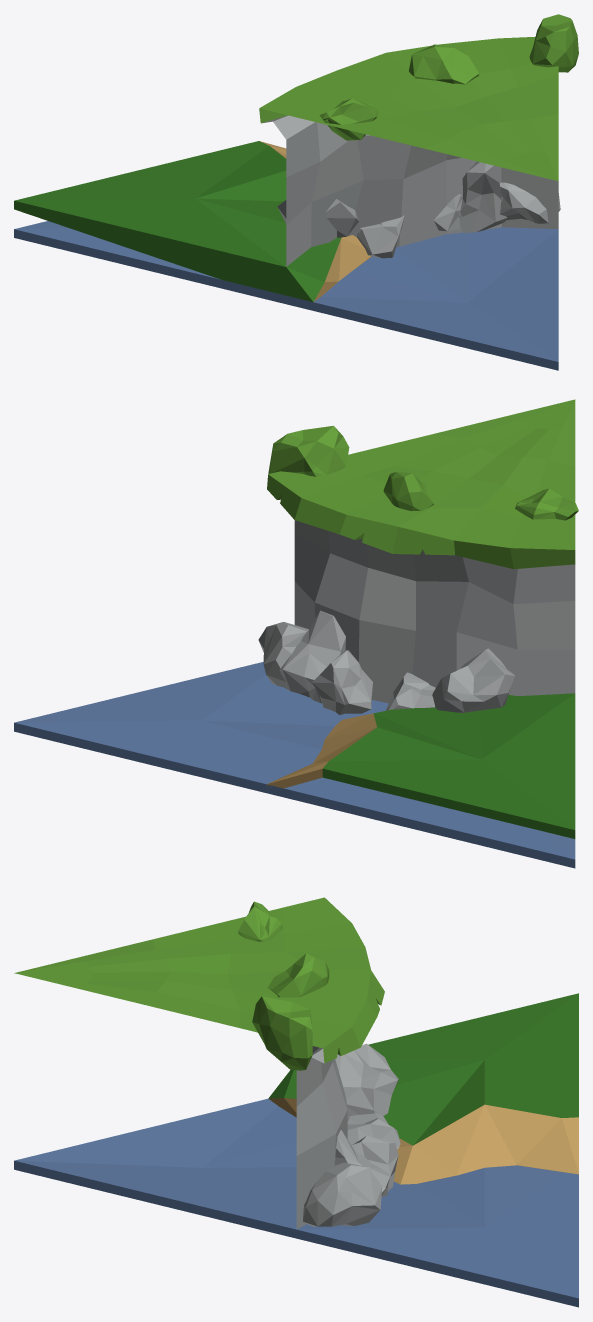
3 renders of one model, top to bottom at view 1: azimuth 30°, elevation 25°; view 2: azimuth 150°, elevation 25°; view 3: azimuth 270°, elevation 25°, orthographic. The views are drawn at different scales.
Parts seen in each view (by area): view 1: hill8.002, water4.003, ground.009, rock4.003, bush2.005, bush1.005, rock0.015, bush3.005, rock3.003, rock1.003, rock5.003; view 2: hill8.002, water4.003, ground.009, rock1.003, bush2.005, rock4.003, rock5.003, rock0.015, bush1.005, bush3.005, rock3.003; view 3: water4.003, hill8.002, ground.009, rock0.015, bush2.005, rock1.003, bush1.005, rock5.003, rock3.003, bush3.005, rock4.003.
Part boxes in pixels (x1=…): hill8.002: x1=259, y1=36, x2=558, y2=266; water4.003: x1=14, y1=221, x2=558, y2=370; ground.009: x1=14, y1=141, x2=371, y2=309; rock4.003: x1=458, y1=161, x2=507, y2=232; bush2.005: x1=529, y1=14, x2=578, y2=72; bush1.005: x1=409, y1=44, x2=478, y2=84; rock0.015: x1=499, y1=182, x2=560, y2=223; bush3.005: x1=319, y1=98, x2=378, y2=140; rock3.003: x1=357, y1=215, x2=404, y2=258; rock1.003: x1=277, y1=199, x2=360, y2=237; rock5.003: x1=434, y1=194, x2=462, y2=231; hill8.002: x1=267, y1=399, x2=575, y2=703; water4.003: x1=14, y1=662, x2=575, y2=868; ground.009: x1=266, y1=693, x2=575, y2=838; rock1.003: x1=432, y1=648, x2=514, y2=712; bush2.005: x1=268, y1=425, x2=349, y2=476; rock4.003: x1=279, y1=610, x2=345, y2=703; rock5.003: x1=312, y1=650, x2=372, y2=714; rock0.015: x1=258, y1=622, x2=308, y2=687; bush1.005: x1=383, y1=472, x2=433, y2=511; bush3.005: x1=515, y1=488, x2=578, y2=520; rock3.003: x1=386, y1=672, x2=435, y2=710; water4.003: x1=14, y1=1098, x2=578, y2=1307; hill8.002: x1=14, y1=897, x2=384, y2=1228; ground.009: x1=268, y1=993, x2=578, y2=1184; rock0.015: x1=303, y1=1162, x2=382, y2=1226; bush2.005: x1=252, y1=996, x2=312, y2=1070; rock1.003: x1=335, y1=1043, x2=398, y2=1116; bush1.005: x1=268, y1=953, x2=329, y2=997; rock5.003: x1=352, y1=1135, x2=398, y2=1196; rock3.003: x1=347, y1=1112, x2=400, y2=1149; bush3.005: x1=238, y1=901, x2=282, y2=941; rock4.003: x1=335, y1=1130, x2=389, y2=1195.
Size of the model in its own units: 1 by 0.4128 by 0.866.
